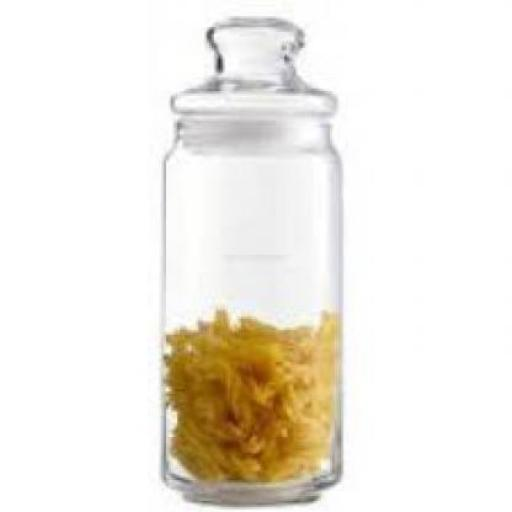biodegradable: (169, 310, 341, 480)
glass: (161, 16, 346, 503)
